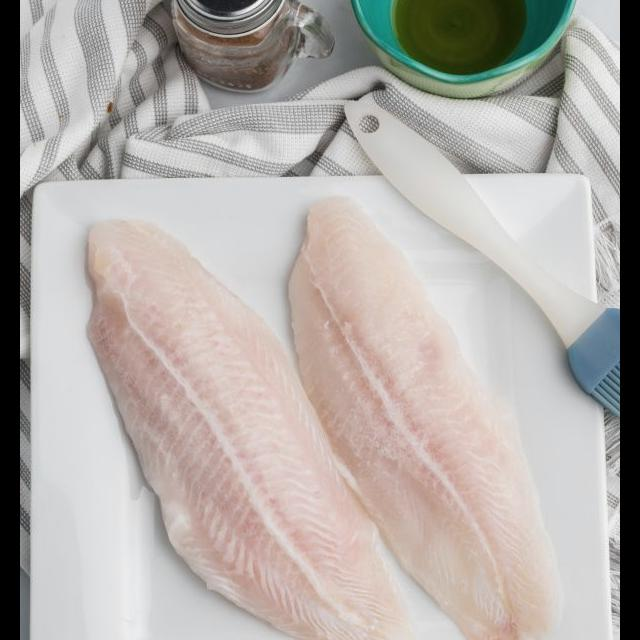fish: (64, 198, 425, 640), (290, 185, 582, 640)
